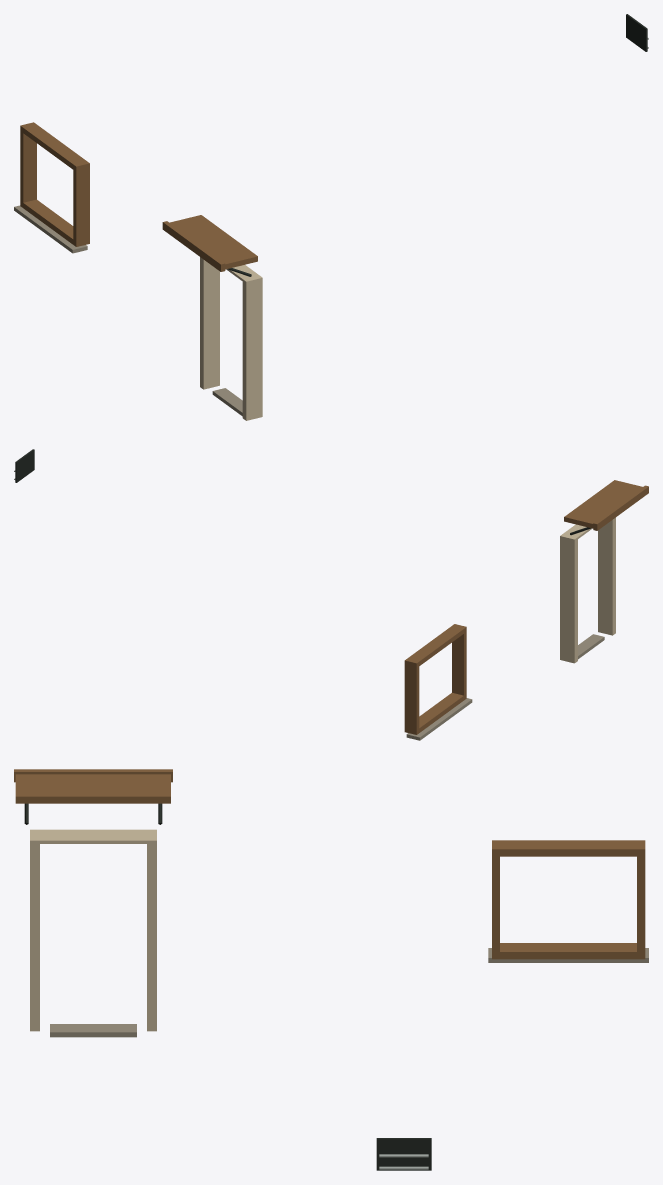
The model's file is SM_Homes_H01_Fixtures_LOD2.fbx.
3 renders of one model, top to bottom at view 1: azimuth 30°, elevation 25°; view 2: azimuth 150°, elevation 25°; view 3: azimuth 270°, elevation 25°, orthographic. The views are drawn at different scales.
Visible parts, largest first — view 1: SM_Homes_H01_Fixtures_LOD2; view 2: SM_Homes_H01_Fixtures_LOD2; view 3: SM_Homes_H01_Fixtures_LOD2.
Part boxes in pixels (<box>): SM_Homes_H01_Fixtures_LOD2: <box>14,14,648,420</box>; SM_Homes_H01_Fixtures_LOD2: <box>14,449,648,740</box>; SM_Homes_H01_Fixtures_LOD2: <box>14,769,648,1170</box>.
Size of the model in its own units: 9.71 by 6.95 by 2.88.
